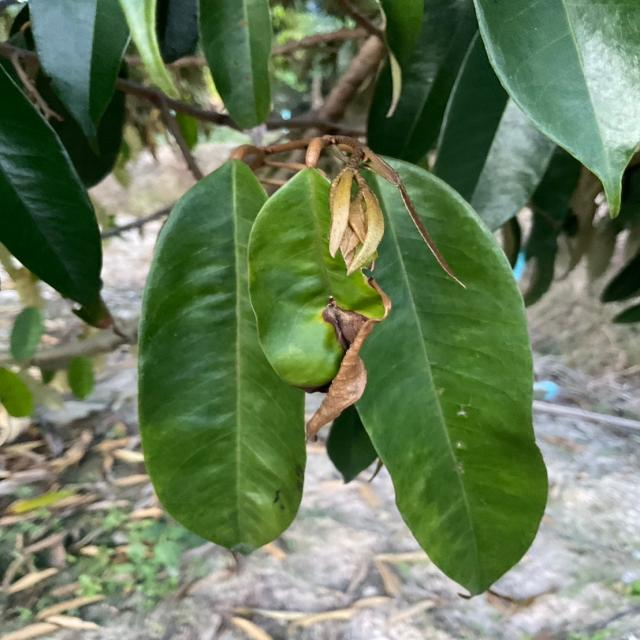Leaf Blight: (244, 168, 392, 445)
